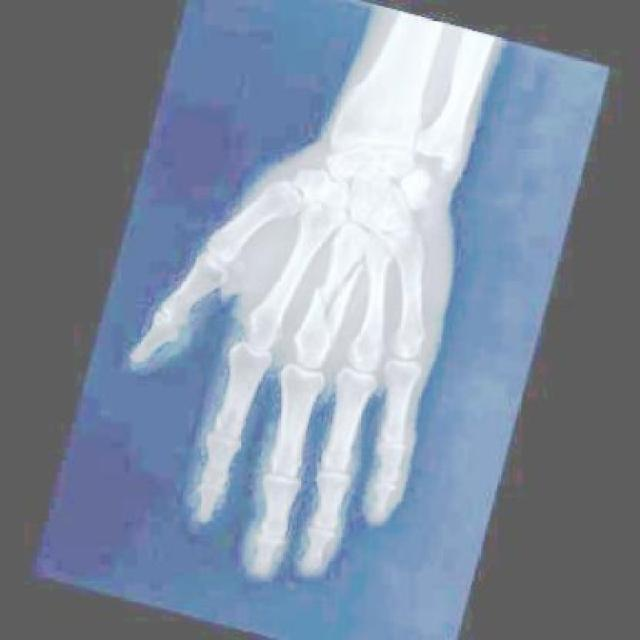Fracture: (294, 248, 363, 354)
